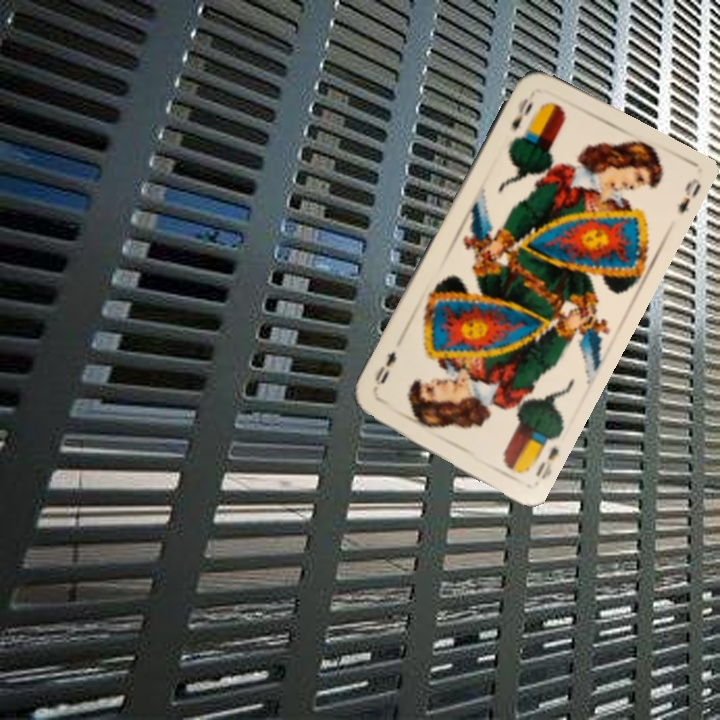EO: (531, 442, 562, 483), (507, 93, 536, 134)
